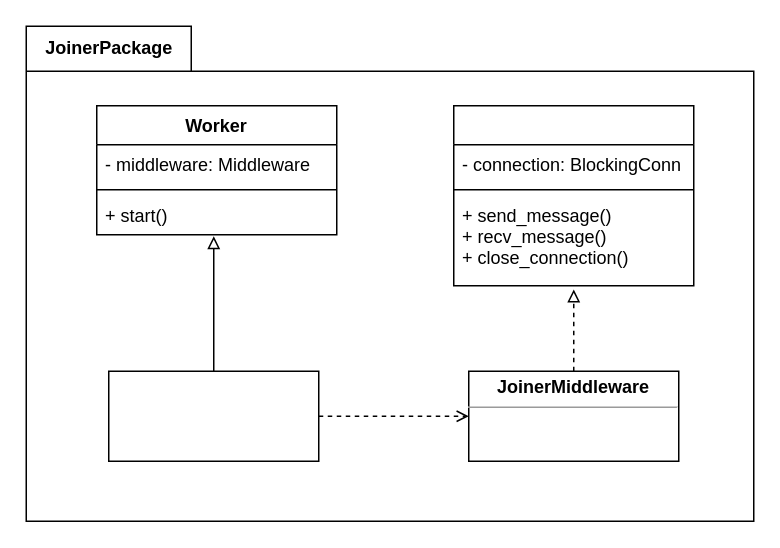
The diagram is 780 pixels wide and 548 high, and some of its shapes have lost their labels. The shapes that lost their labels are listed below. From the top down, each one's box as (x1, y1, x2, y2) in pixels, then its label:
(452, 104, 694, 286): Middleware
(107, 370, 319, 461): JoinerWorker
